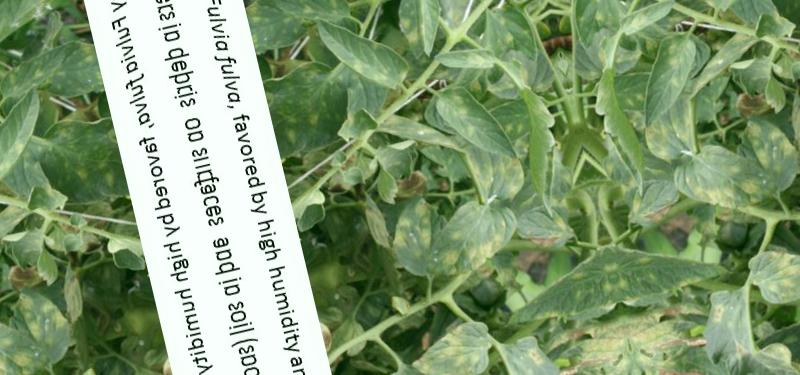Tomato mold leaf: (431, 75, 540, 225), (489, 229, 620, 332), (309, 0, 415, 106), (420, 190, 527, 281), (397, 310, 502, 375), (245, 0, 355, 51), (479, 0, 544, 76), (227, 0, 436, 22), (400, 0, 453, 63), (435, 355, 586, 375), (434, 42, 499, 81), (359, 359, 463, 375)
